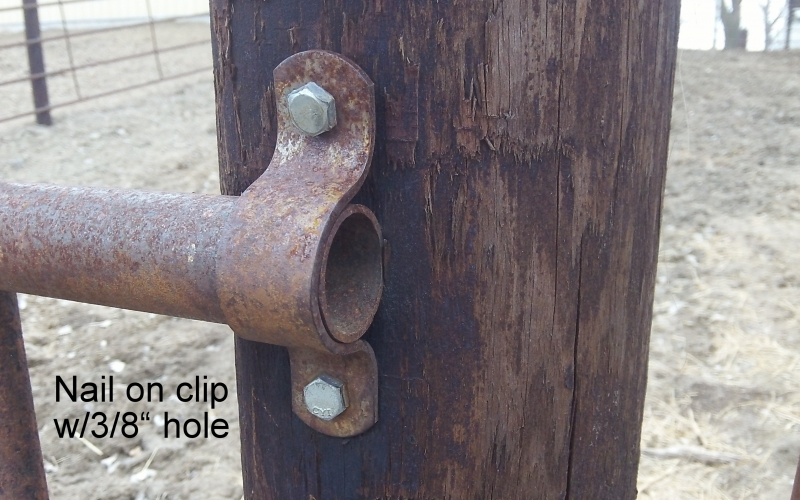bolt_a: (282, 80, 340, 140), (299, 372, 354, 424)
